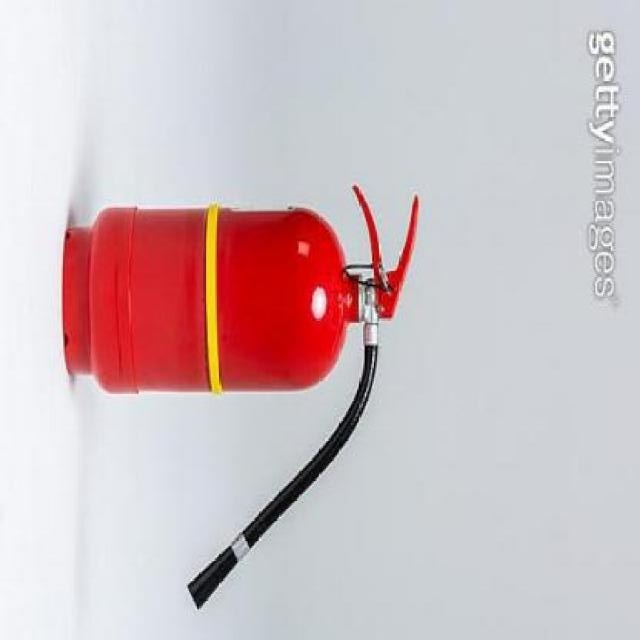fire extinguisher: (62, 186, 421, 609)
